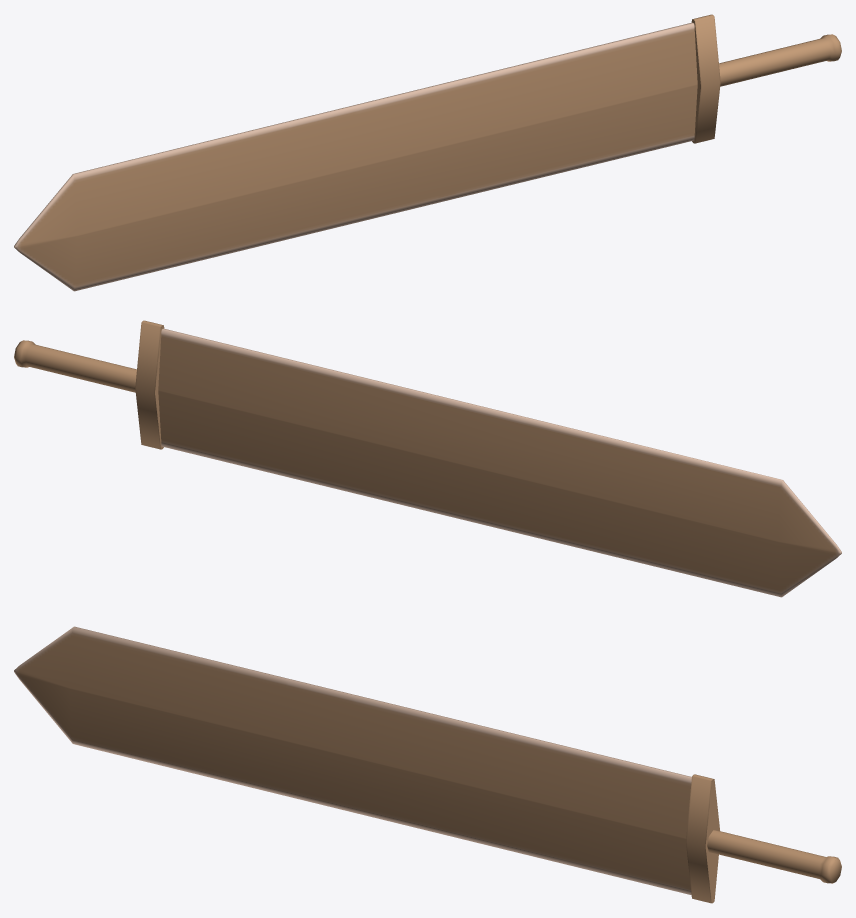
File: Emiya_big_blade_1.fbx
3 views of the same model, one above another, from view 1: azimuth 30°, elevation 25°; view 2: azimuth 150°, elevation 25°; view 3: azimuth 330°, elevation 25° (orthographic).
Parts seen in each view (by area): view 1: Emiya_big_blade_1; view 2: Emiya_big_blade_1; view 3: Emiya_big_blade_1.
Part boxes in pixels (box(x1,y1,x2,y2)): Emiya_big_blade_1: box(14, 14, 841, 291); Emiya_big_blade_1: box(14, 320, 841, 597); Emiya_big_blade_1: box(14, 626, 841, 903).
Size of the model in its own units: 337 by 48.44 by 10.77.
Materials: 1 (1 with a texture image).
